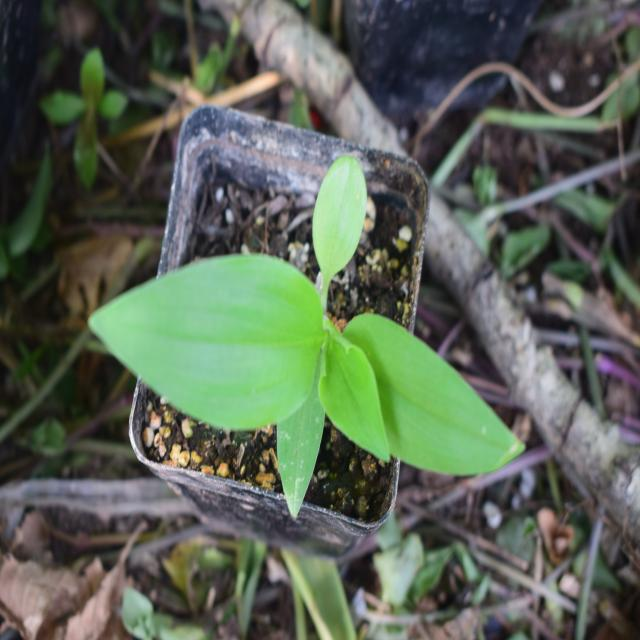Common Dayflower: (88, 216, 528, 554)
